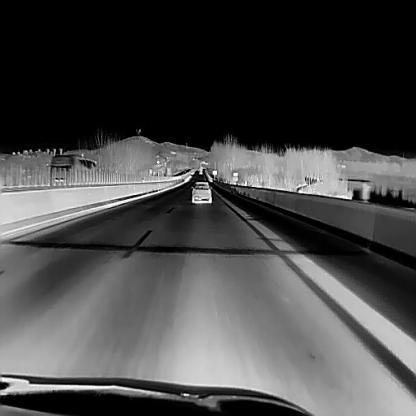car: (190, 180, 212, 204)
truck: (46, 153, 96, 186)
